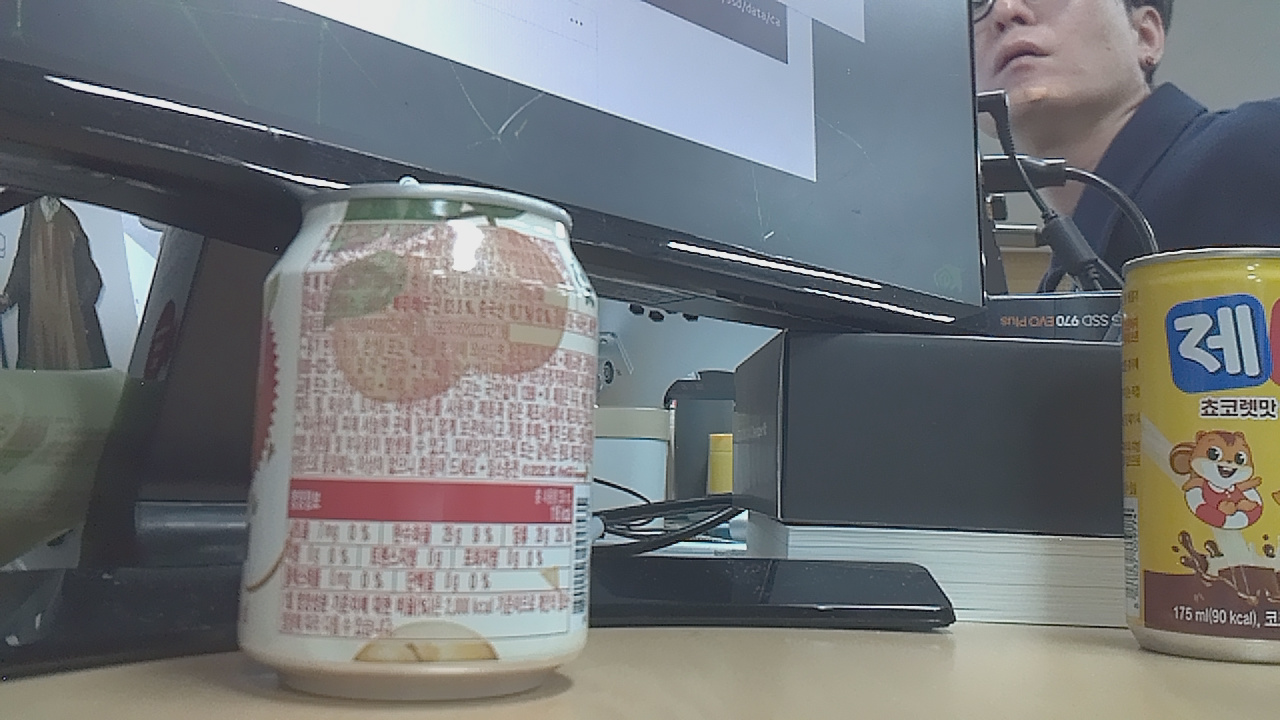IdH (pear juice): (247, 139, 618, 685)
jetty: (1118, 246, 1280, 678)
